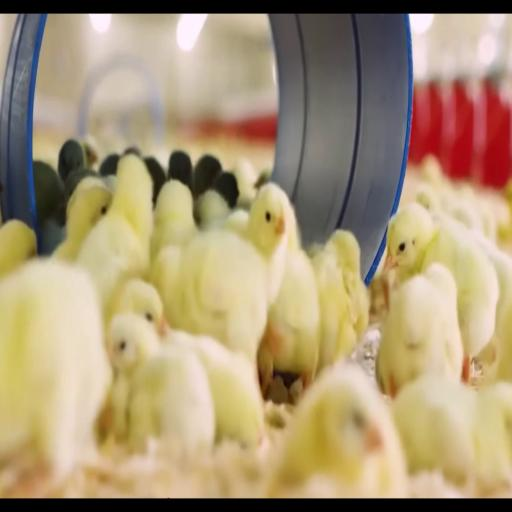chick: (0, 259, 111, 483), (152, 184, 288, 365), (384, 203, 499, 382), (270, 363, 406, 497), (392, 375, 511, 491), (76, 155, 153, 317), (376, 264, 462, 398), (165, 331, 264, 447), (127, 348, 215, 456), (392, 375, 477, 484), (258, 250, 320, 395), (455, 224, 511, 381), (107, 313, 161, 438), (469, 232, 511, 382), (312, 247, 357, 370), (53, 177, 112, 261), (326, 230, 369, 338), (151, 180, 197, 261), (112, 279, 168, 336), (446, 184, 496, 241), (195, 173, 238, 228), (0, 220, 37, 279), (33, 161, 65, 226), (445, 200, 483, 233), (194, 155, 222, 199), (233, 158, 257, 209), (58, 139, 84, 182), (65, 168, 98, 201), (144, 157, 166, 205), (168, 151, 193, 192), (420, 155, 447, 191), (39, 220, 65, 256), (497, 179, 511, 242), (415, 183, 441, 211), (224, 209, 249, 236), (82, 136, 98, 168), (98, 153, 120, 176), (255, 168, 272, 190), (306, 243, 324, 259), (102, 175, 116, 193), (122, 146, 143, 158)
